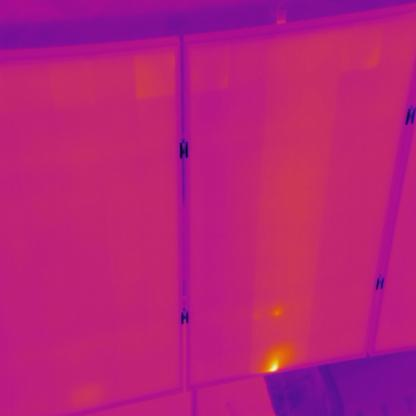hotspot: (261, 351, 284, 375)
